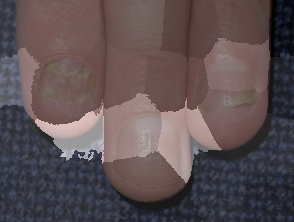Nail_psoriasis: (171, 38, 284, 151), (22, 38, 112, 139), (99, 100, 191, 198)
